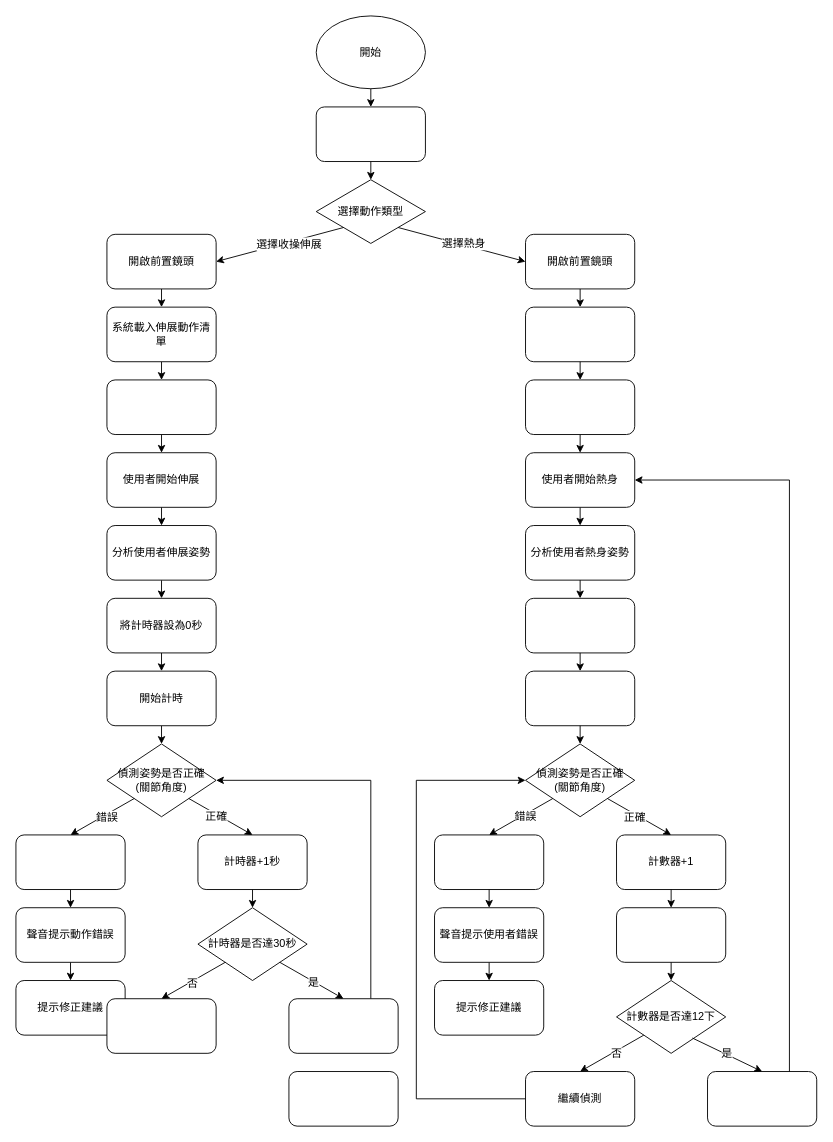
The diagram is 833 pixels wide and 1142 high, and some of its shapes have lost their labels. The box of each missing label's shape, as (x1, y1, x2, y2) in pixels:
使用者登入: (315, 106, 425, 162)
將計數器設為0: (525, 597, 635, 653)
提示使用者開始熱身: (525, 379, 635, 435)
提示使者開始進行伸展動作: (106, 379, 216, 435)
系統載入熱身動作清單: (525, 306, 635, 362)
聲音提示使用者目前計數: (616, 907, 726, 962)
聲音提示使用者該動作完成伸展: (288, 998, 398, 1053)
聲音提示使用者該動作熱身完成: (707, 1071, 817, 1126)
計數器+0: (434, 834, 544, 890)
計時器+0秒: (15, 834, 125, 890)
開始計數: (525, 670, 635, 726)
